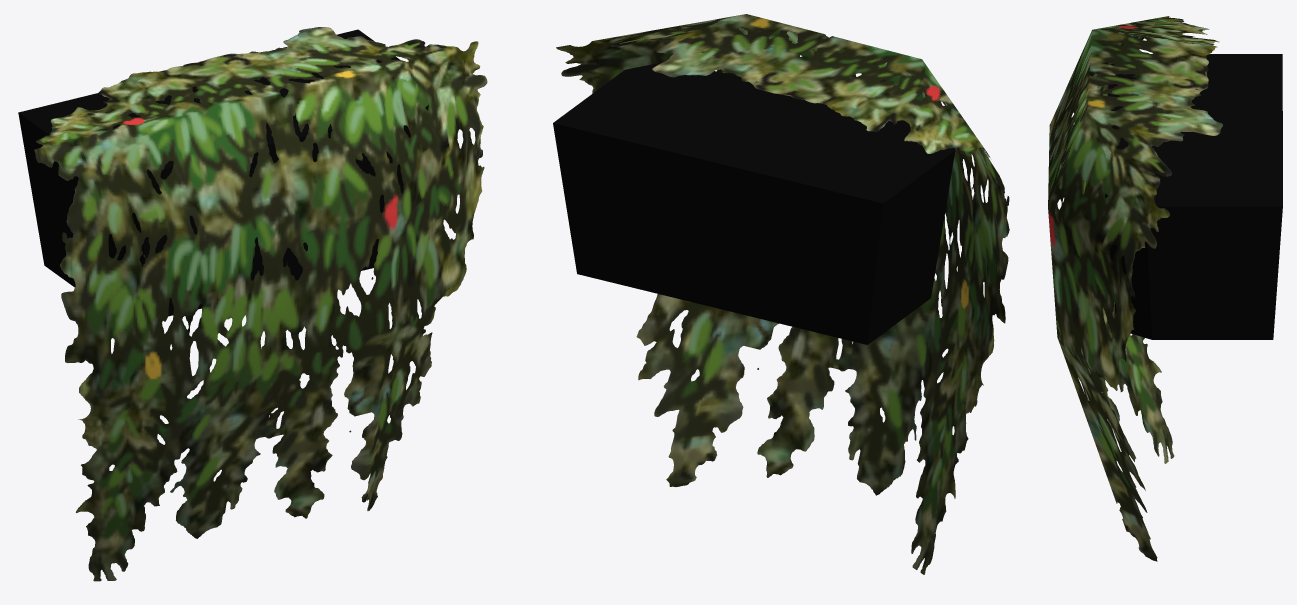
Rendered from flowerpot_03.fbx.
3 views of the same model, side by side, from view 1: azimuth 30°, elevation 25°; view 2: azimuth 150°, elevation 25°; view 3: azimuth 270°, elevation 25° (orthographic). The views are drawn at different scales.
Visible parts, largest first — view 1: flowerpot_03; view 2: flowerpot_03; view 3: flowerpot_03.
Part boxes in pixels (bbox=[...]): flowerpot_03: bbox=[18, 27, 487, 581]; flowerpot_03: bbox=[553, 14, 1009, 574]; flowerpot_03: bbox=[1048, 16, 1282, 561].
Size of the model in its own units: 1.2 by 1.2 by 0.5599.
